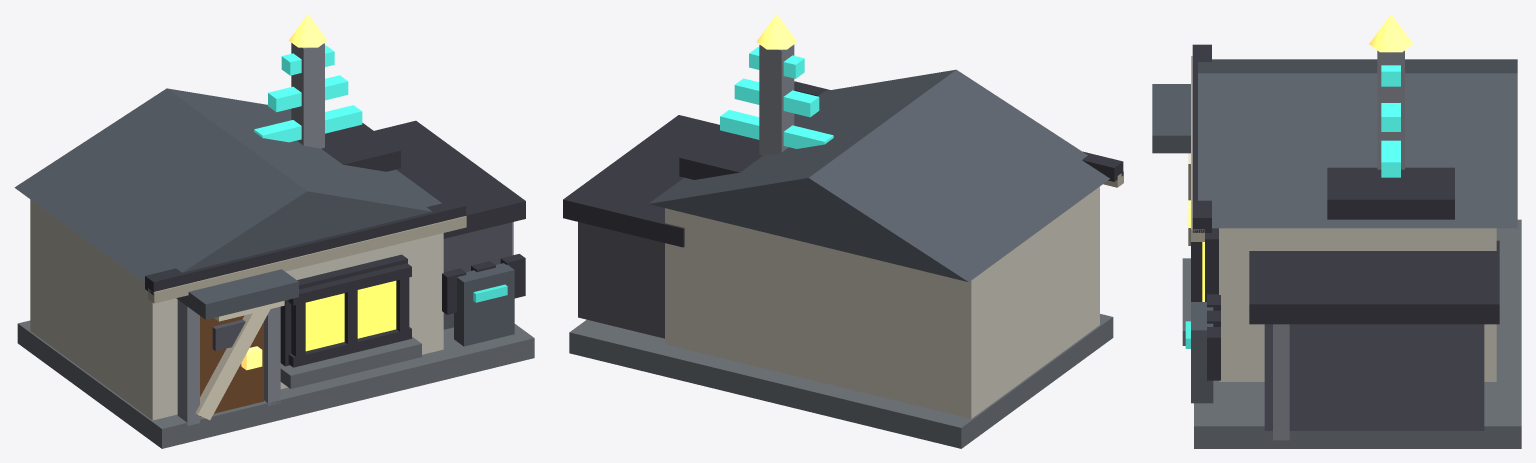
The model's file is scene__signalHouse.glb.
3 renders of one model, left to right at view 1: azimuth 30°, elevation 25°; view 2: azimuth 150°, elevation 25°; view 3: azimuth 270°, elevation 25°, orthographic. The views are drawn at different scales.
Visible parts, largest first — view 1: object 5, object 2, object 1, object 6, object 4, object 7, object 19, object 29, object 8, object 12, object 25, state_signalDoor (+19 smaller); view 2: object 2, object 5, object 1, object 6, object 4, object 3, object 34, object 33, object 35, object 36, object 7, object 38 (+1 smaller); view 3: object 6, object 3, object 4, object 1, object 2, object 33, object 5, object 12, object 31, object 29, object 7, object 34 (+9 smaller).
Boxes of the visible parts, x1,y1,x2,y2 form: object 5: [14, 88, 307, 282]; object 2: [30, 199, 443, 420]; object 1: [17, 320, 534, 448]; object 6: [167, 88, 441, 241]; object 4: [374, 120, 525, 238]; object 7: [145, 199, 465, 294]; object 19: [305, 280, 396, 351]; object 29: [454, 263, 514, 346]; object 8: [148, 216, 466, 303]; object 12: [176, 269, 298, 319]; object 25: [280, 336, 421, 388]; state_signalDoor: [200, 315, 263, 416]; object 2: [665, 186, 1099, 418]; object 5: [808, 70, 1109, 282]; object 1: [569, 314, 1113, 448]; object 6: [649, 69, 955, 242]; object 4: [563, 115, 719, 247]; object 3: [578, 222, 664, 338]; object 34: [759, 44, 794, 155]; object 33: [679, 128, 762, 179]; object 35: [720, 110, 833, 148]; object 36: [734, 78, 819, 117]; object 7: [794, 81, 1123, 181]; object 38: [756, 14, 796, 49]; object 6: [1198, 73, 1517, 228]; object 3: [1264, 324, 1484, 430]; object 4: [1249, 240, 1499, 324]; object 1: [1194, 219, 1521, 448]; object 2: [1219, 228, 1496, 381]; object 33: [1327, 167, 1454, 219]; object 5: [1198, 59, 1517, 73]; object 12: [1152, 84, 1190, 153]; object 31: [1273, 324, 1289, 440]; object 29: [1191, 302, 1213, 403]; object 7: [1192, 44, 1211, 232]; object 34: [1377, 50, 1404, 169].
Bounding box in the file's own units: 3.76 × 2.84 × 2.66.
